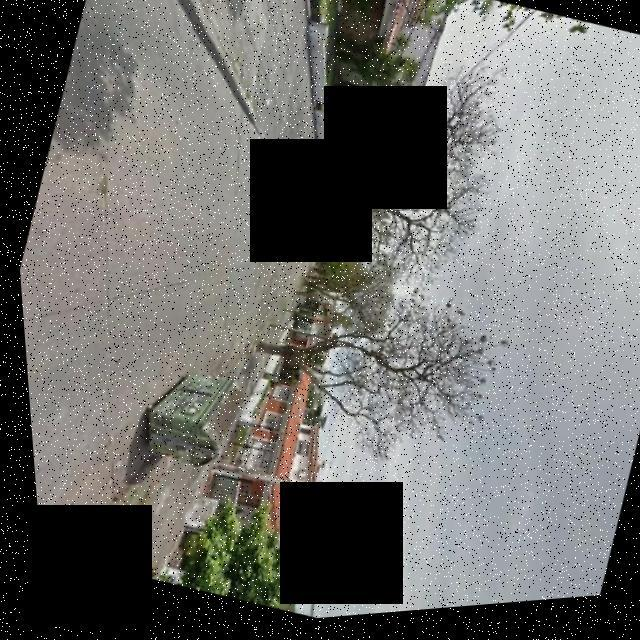bin: (104, 345, 259, 497)
